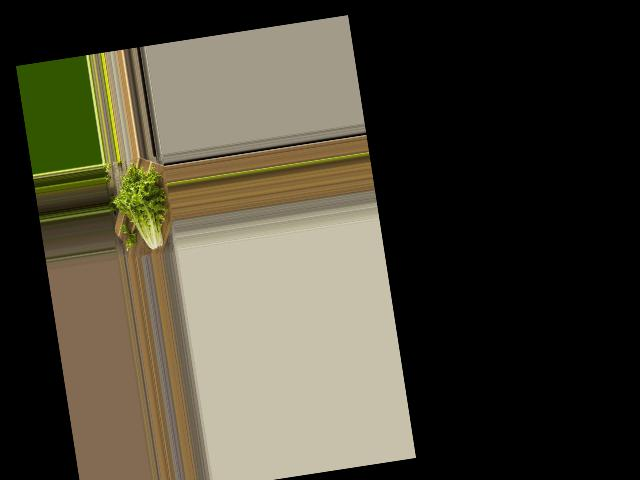lettuce: (110, 162, 174, 258)
